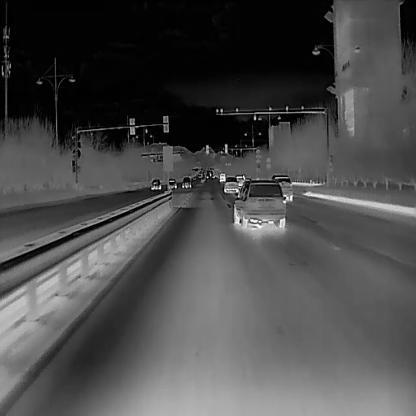car: (232, 178, 285, 229), (273, 174, 293, 201), (223, 177, 238, 192), (181, 175, 191, 189), (149, 177, 158, 189), (167, 178, 176, 188)
